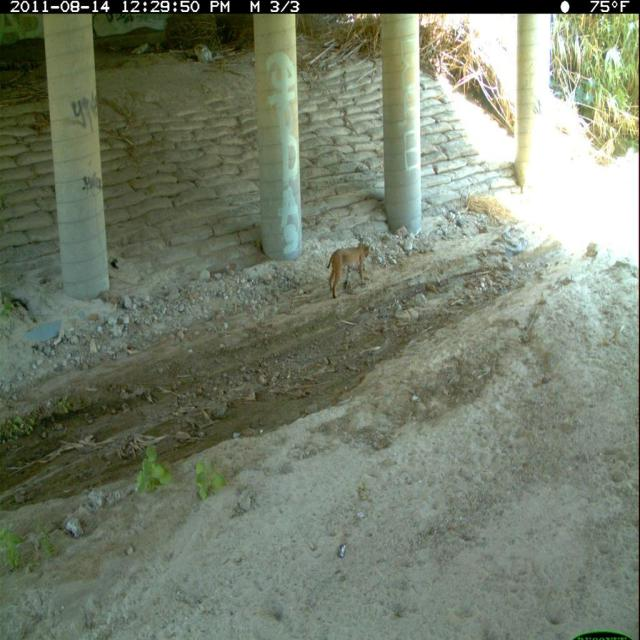bobcat: (324, 237, 375, 302)
